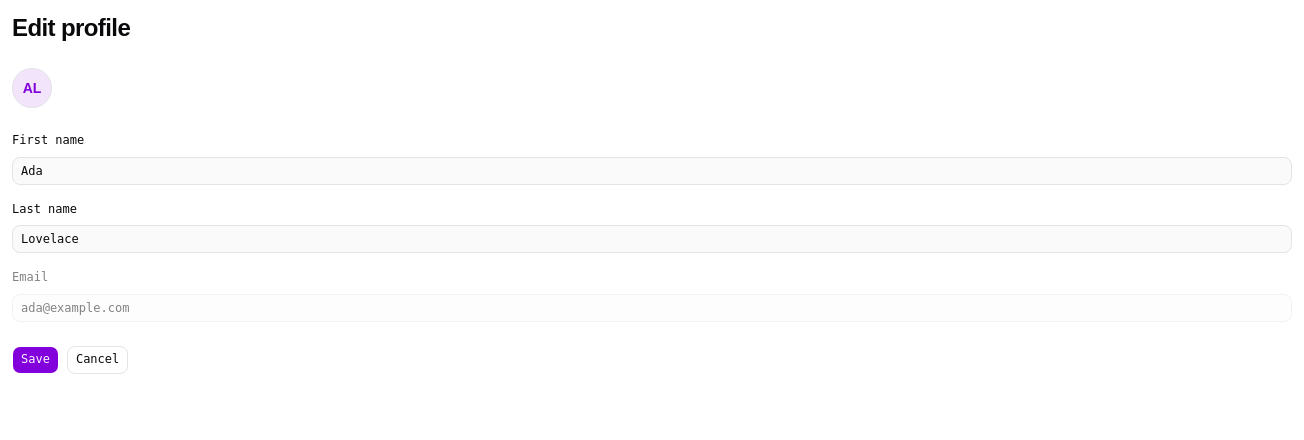
Test: Edit profile page › shows an inline error and keeps the entered values when saving fails
Replace the text in the field labelled "First name" with "Grace" at (652, 170), box [12,156,1292,184]
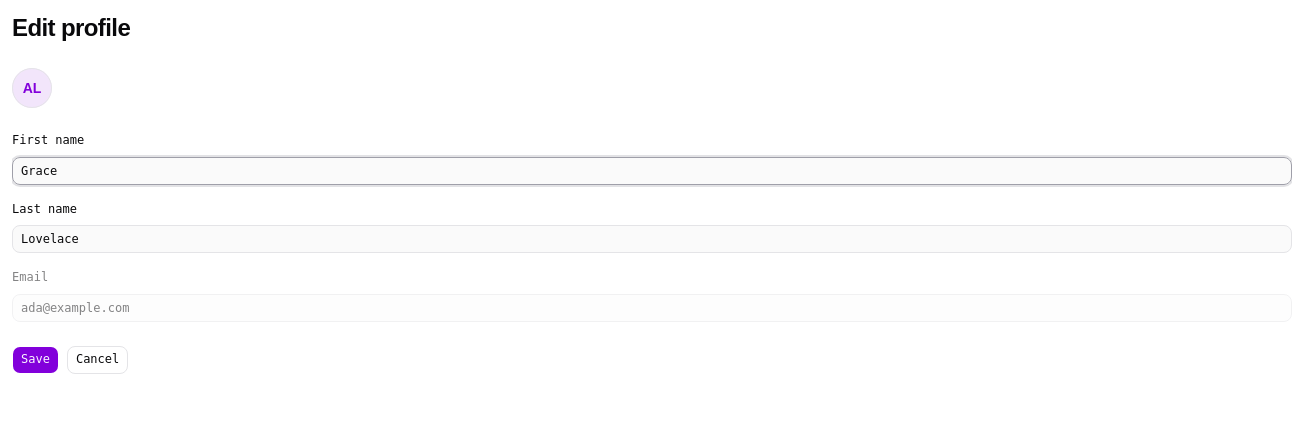
Click the button "Save".
click(35, 360)  # box [12,346,59,374]
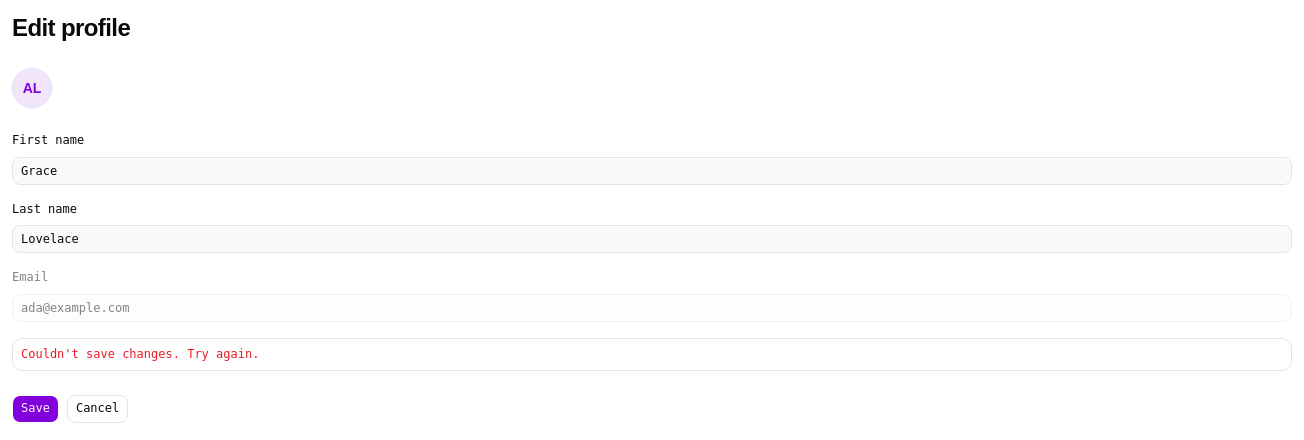
Check: the message shows "Couldn't save", box [21,346,259,360]
